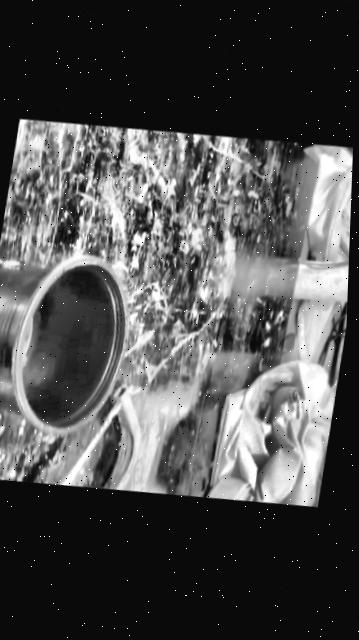pot: (0, 248, 136, 438)
